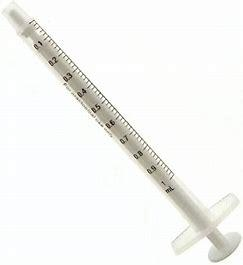Syringe: (2, 4, 242, 265)
